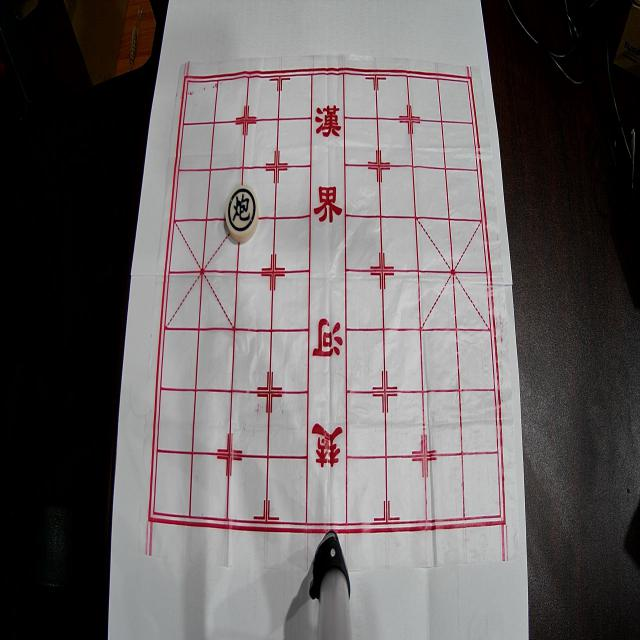black-cannon: (226, 185, 258, 243)
